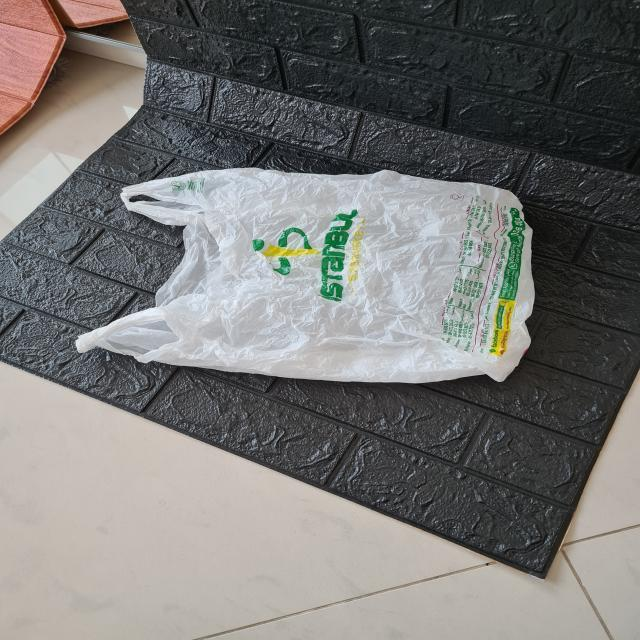Plastic_Bag: (81, 166, 536, 387)
